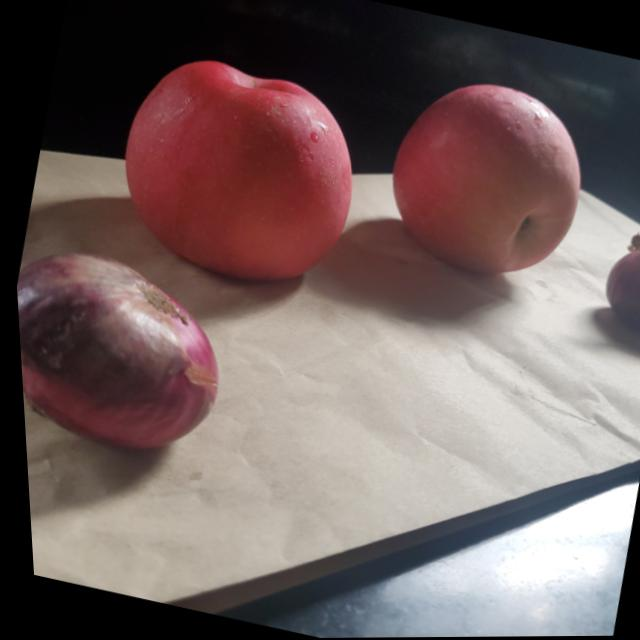apple: (91, 40, 375, 295), (368, 65, 605, 294)
onion: (11, 241, 244, 467)
